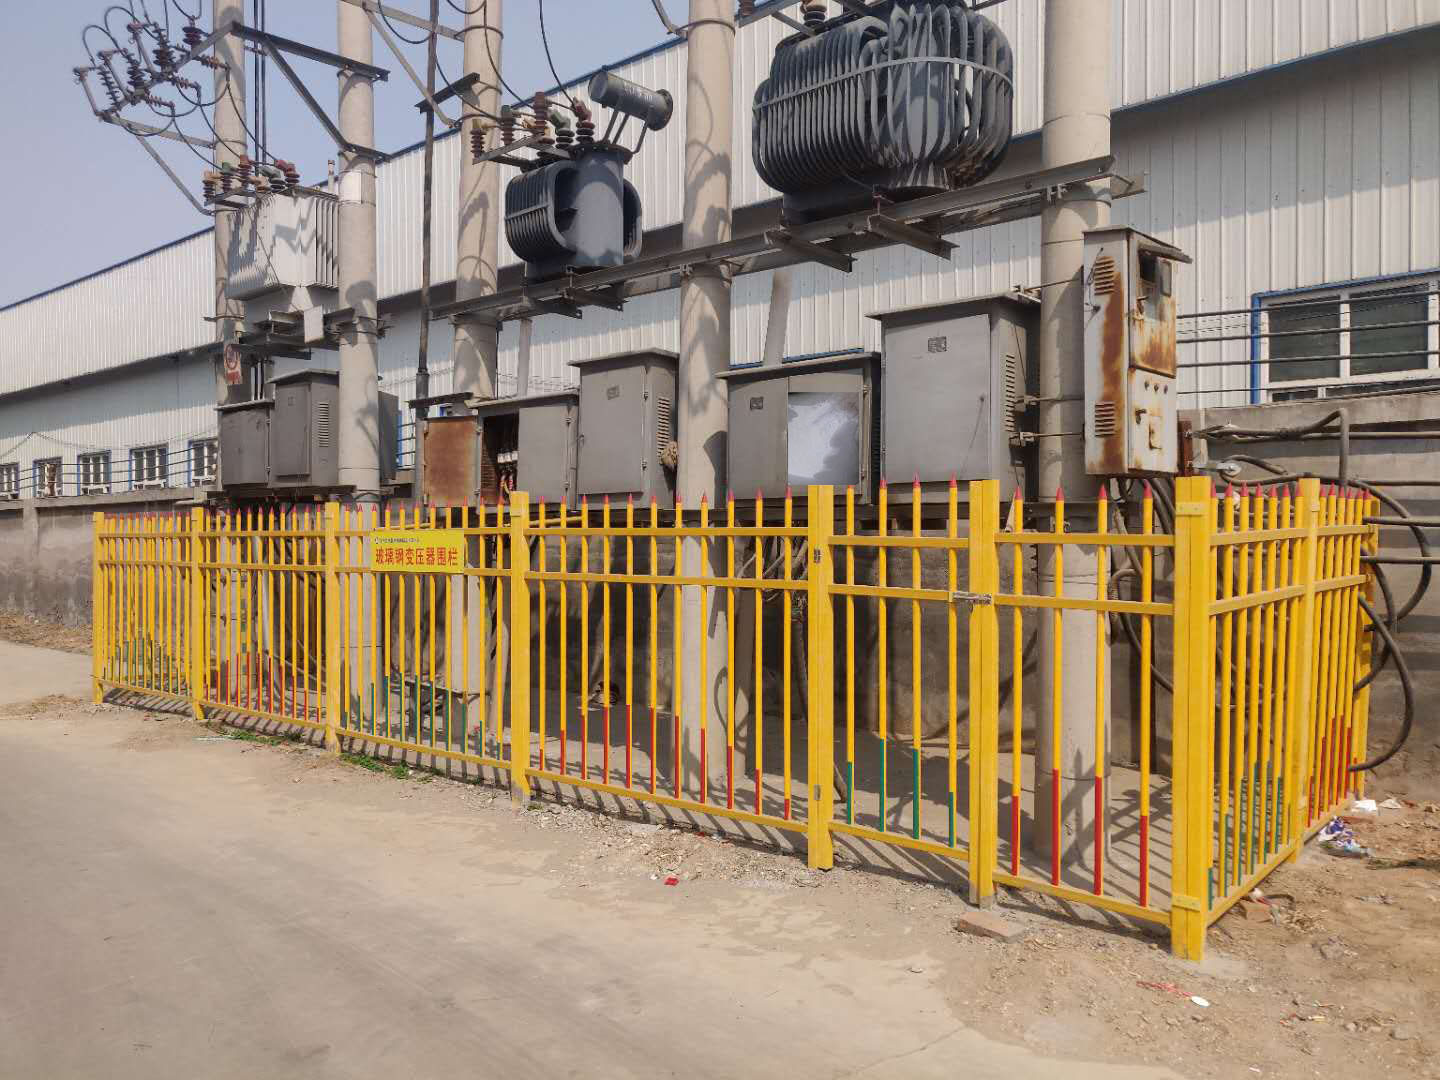oil: (783, 393, 863, 484)
